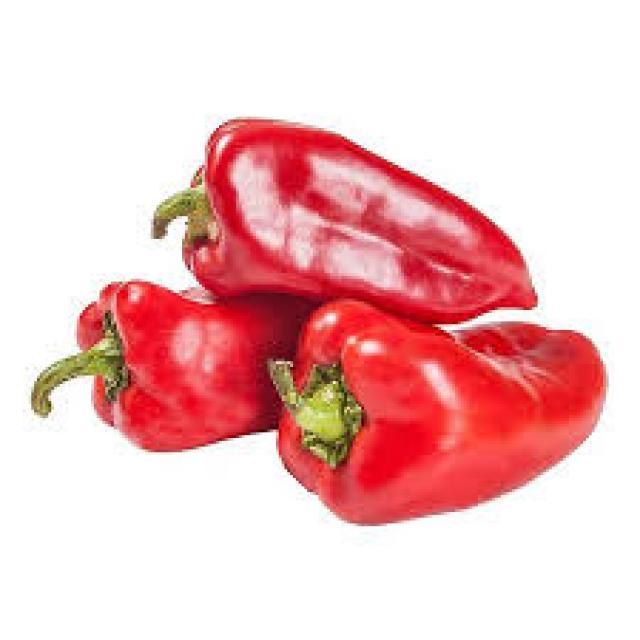Pepper: (151, 119, 538, 328), (267, 299, 607, 526), (30, 281, 306, 454)
